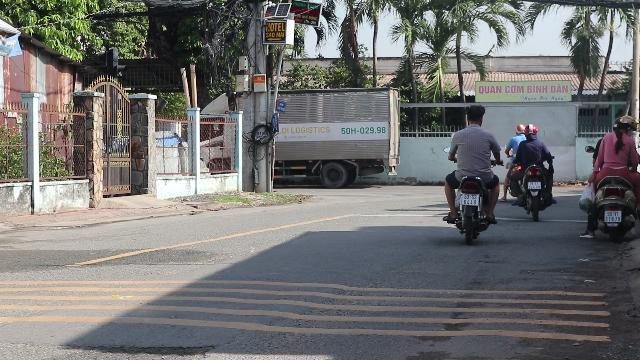helmet: (618, 115, 638, 133)
licenseplate: (461, 194, 479, 204), (605, 210, 621, 221)
motorcyclist: (440, 104, 502, 242), (577, 114, 639, 242)
nohelmet: (464, 104, 486, 126)
